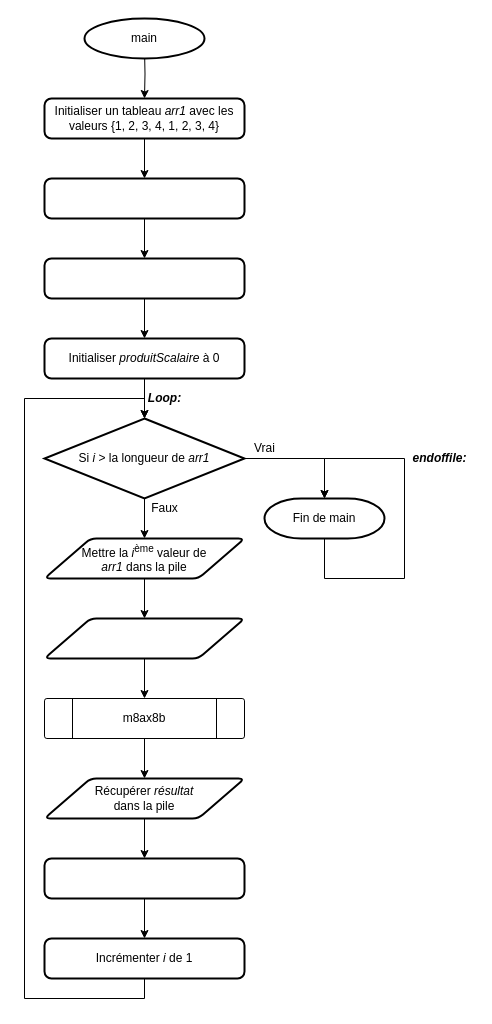
Some shapes in this 492 by 1024 pixel diagram are drawn without their labels. The shapes that lost their labels are listed below. From the top down, each one's centre as x and y in pixels, then its label:
the point at 144,198: Initialiser un tableau arr2 avec les valeurs {1, 1, 3, 1, 1, 1, 5, 4}
the point at 144,278: Initialiser i à 0
the point at 144,638: Mettre la i ème valeur de arr2 dans la pile
the point at 144,878: Ajouter résultat au produitScalaire
